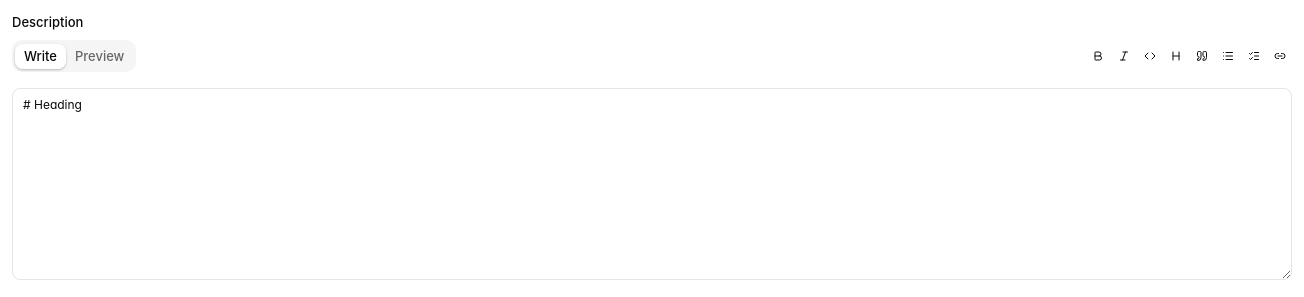
Scenario: MarkdownField preview › renders the markdown rather than showing its source
The image size is (1304, 297).
Step 1. Press the mouse on the tab "Preview" → (100, 56), box [66, 44, 133, 68]
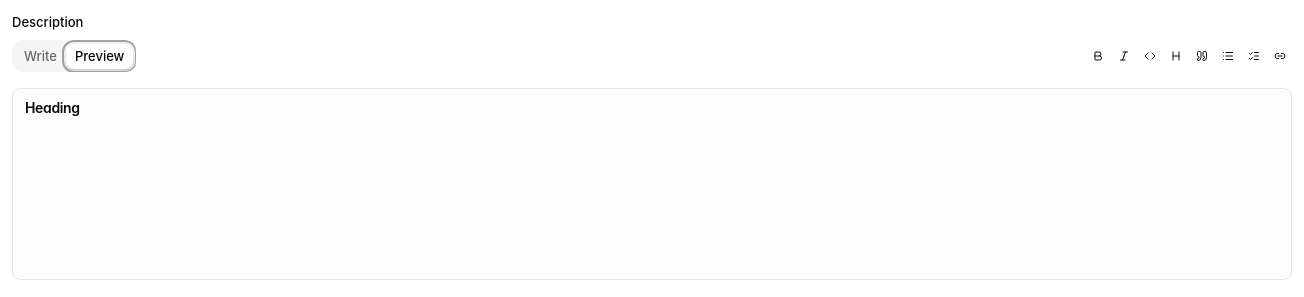
Result: the heading "Heading" is shown at [25, 99, 80, 116]
